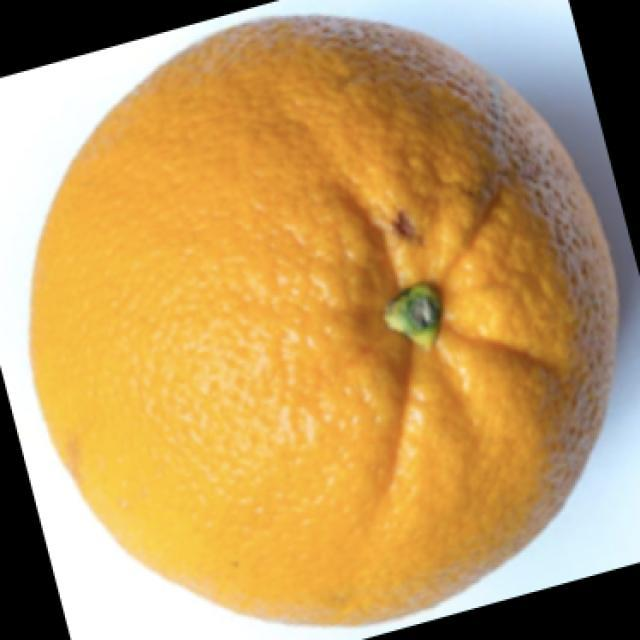Orange: (27, 12, 620, 628)
